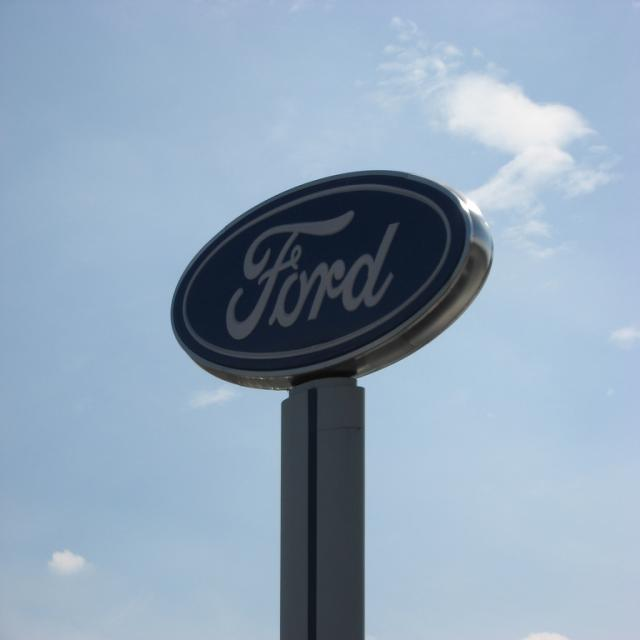ford: (172, 172, 475, 372)
